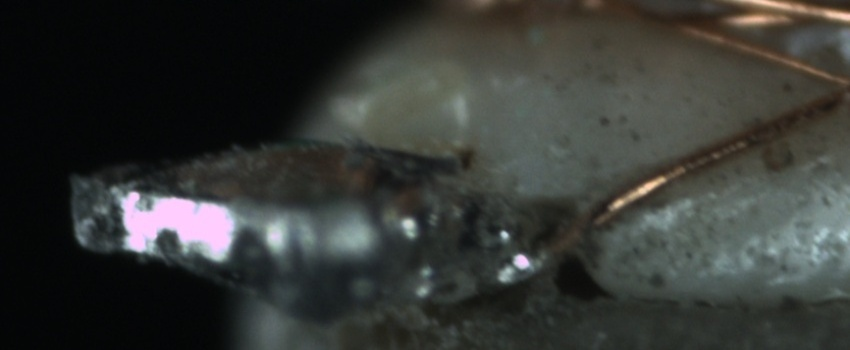CL: (802, 49, 849, 120)
